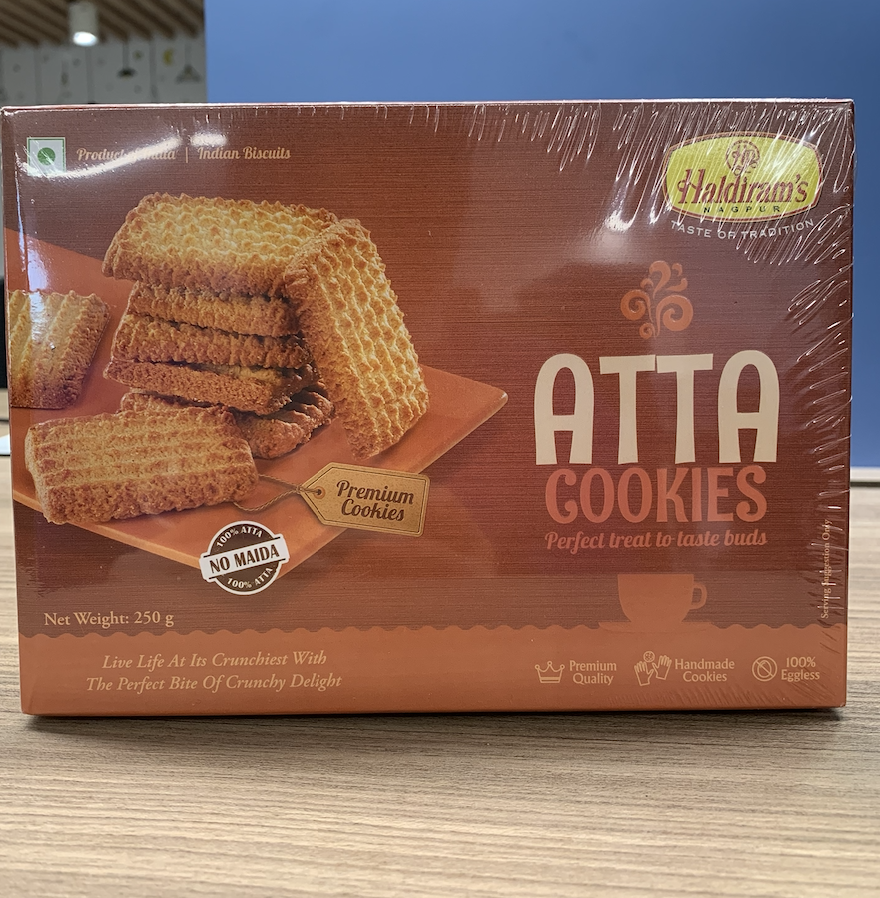cookies_150g: (11, 109, 845, 695)
